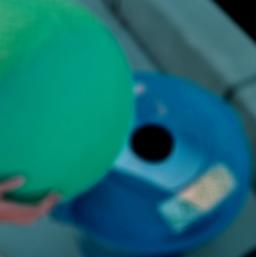algae: (0, 0, 135, 207)
